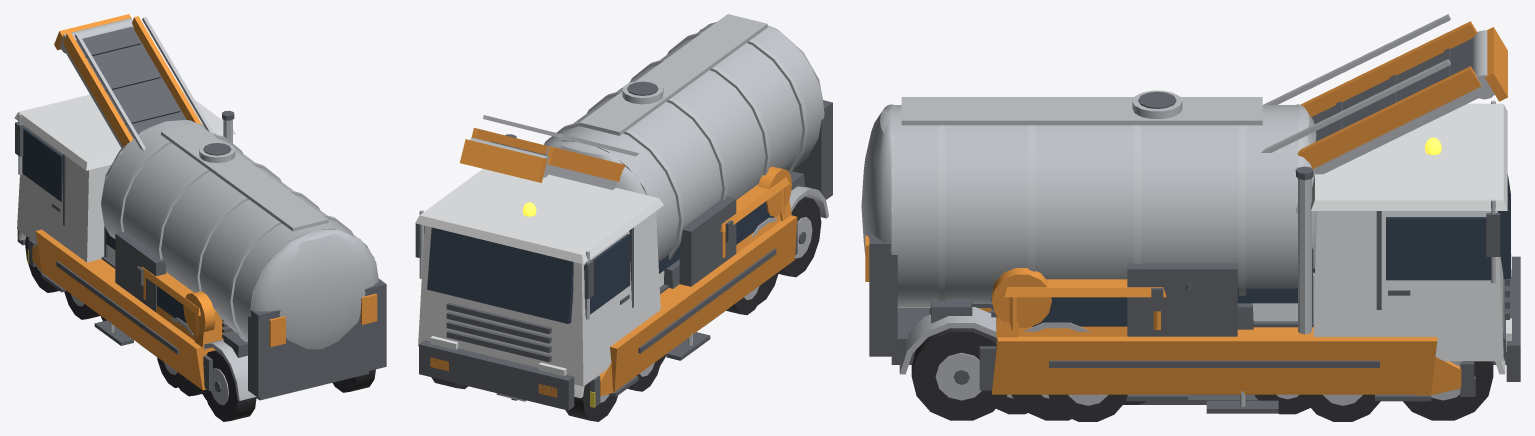
The model's file is gse.glb.
3 renders of one model, left to right at view 1: azimuth 30°, elevation 25°; view 2: azimuth 150°, elevation 25°; view 3: azimuth 270°, elevation 25°, orthographic. The views are drawn at different scales.
Parts seen in each view (by area): view 1: GSE_ServiceTruck, GSE_PushbackTug, GSE_BeltLoader; view 2: GSE_ServiceTruck, GSE_PushbackTug, GSE_BeltLoader; view 3: GSE_ServiceTruck, GSE_PushbackTug, GSE_BeltLoader, GSE_UtilityVan, GSE_ULD.
Boxes of the visible parts, x1,y1,x2,y2 form: GSE_ServiceTruck: [14, 91, 386, 421]; GSE_PushbackTug: [27, 229, 235, 390]; GSE_BeltLoader: [54, 14, 214, 399]; GSE_ServiceTruck: [415, 14, 832, 421]; GSE_PushbackTug: [496, 177, 797, 407]; GSE_BeltLoader: [460, 115, 728, 364]; GSE_ServiceTruck: [861, 90, 1520, 420]; GSE_PushbackTug: [979, 279, 1475, 421]; GSE_BeltLoader: [972, 14, 1507, 414]; GSE_UtilityVan: [1237, 248, 1314, 322]; GSE_ULD: [1140, 395, 1258, 404].
Bounding box in the file's own units: 2.5 × 3.71 × 6.57.
